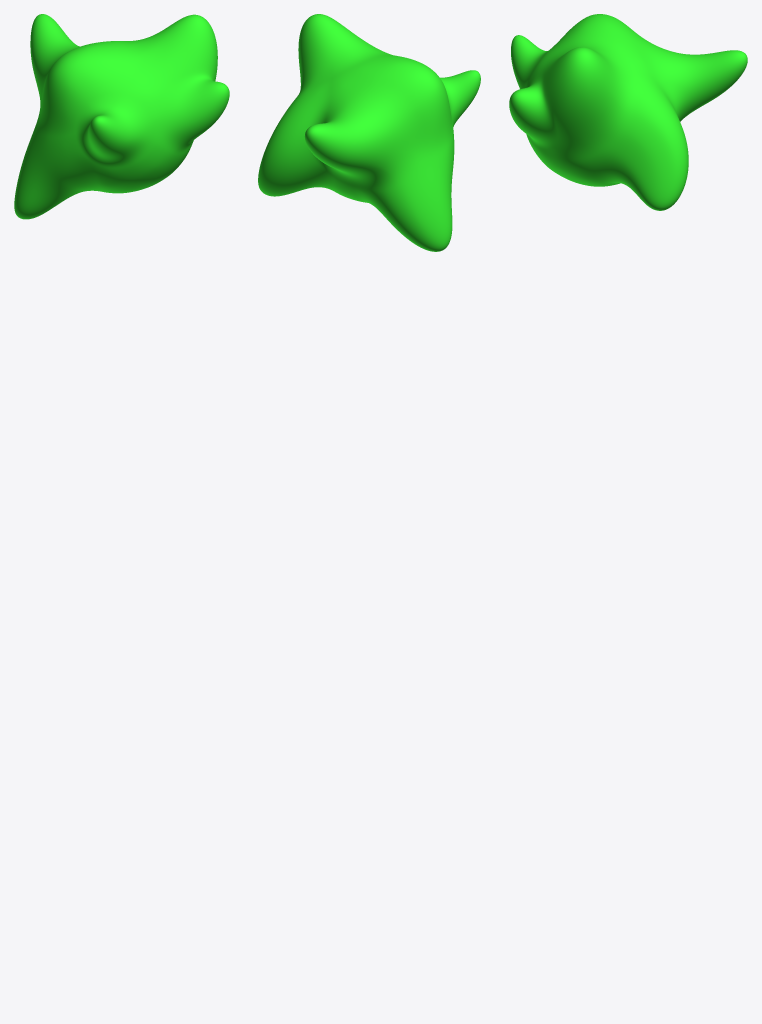
3 renders of one model, left to right at view 1: azimuth 30°, elevation 25°; view 2: azimuth 150°, elevation 25°; view 3: azimuth 270°, elevation 25°, orthographic. The views are drawn at different scales.
Parts seen in each view (by area): view 1: #3; view 2: #3; view 3: #3.
Boxes of the visible parts, x1,y1,x2,y2 form: #3: (14, 14, 229, 219); #3: (258, 14, 480, 251); #3: (509, 14, 747, 210).
Size of the model in its own units: 0.2441 by 1.32 by 0.2881.
